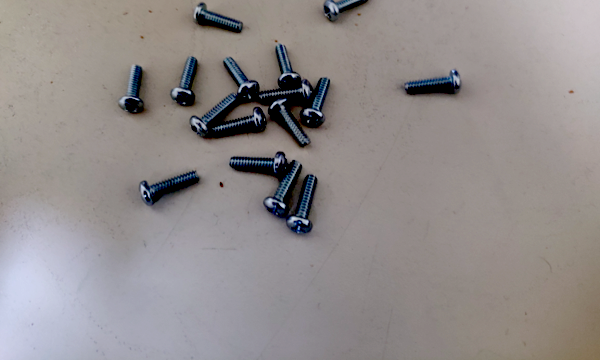shortscrew: (264, 161, 303, 218), (139, 171, 199, 207), (190, 94, 239, 138), (268, 97, 311, 147), (287, 174, 318, 234), (212, 107, 267, 137), (300, 77, 331, 128), (223, 57, 259, 100), (194, 1, 243, 32), (404, 69, 462, 94), (258, 79, 315, 104), (171, 57, 199, 106), (230, 152, 287, 176), (118, 65, 146, 113), (276, 42, 303, 89), (323, 0, 372, 22)
